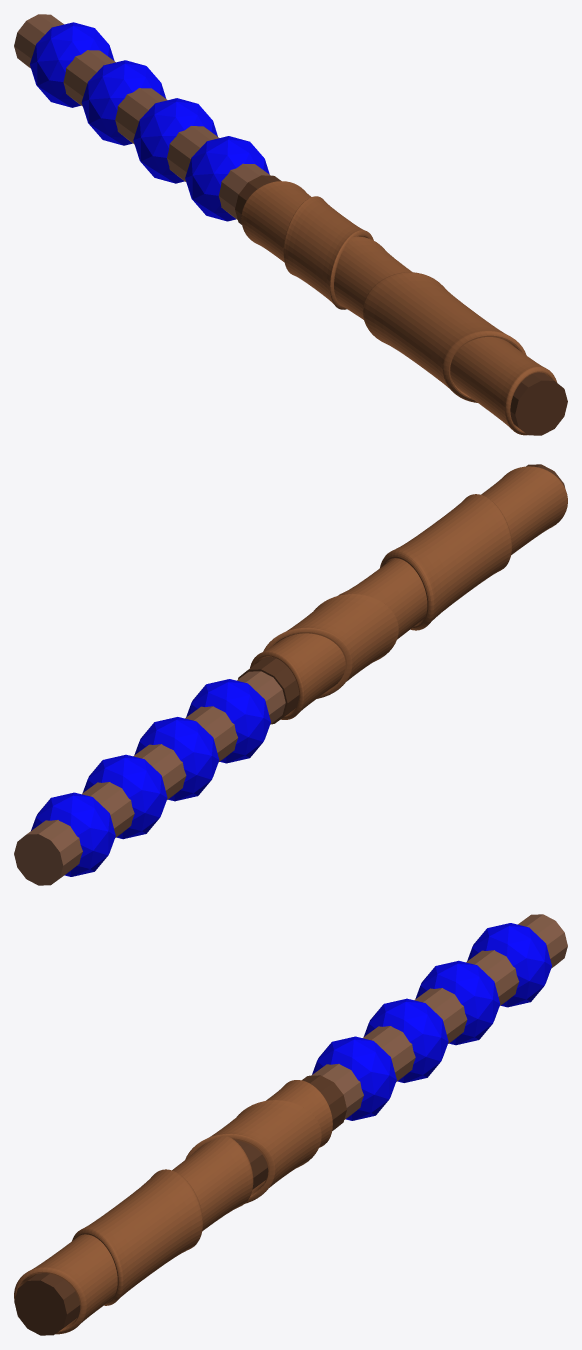
The model's file is Wand 18.glb.
3 renders of one model, top to bottom at view 1: azimuth 30°, elevation 25°; view 2: azimuth 150°, elevation 25°; view 3: azimuth 330°, elevation 25°, orthographic.
Parts seen in each view (by area): view 1: GeneratedWand; view 2: GeneratedWand; view 3: GeneratedWand.
Boxes of the visible parts, x1,y1,x2,y2 form: GeneratedWand: [14, 14, 567, 435]; GeneratedWand: [14, 464, 567, 885]; GeneratedWand: [14, 914, 567, 1335].
Bounding box in the file's own units: 0.0408 × 0.0428 × 0.4996.
